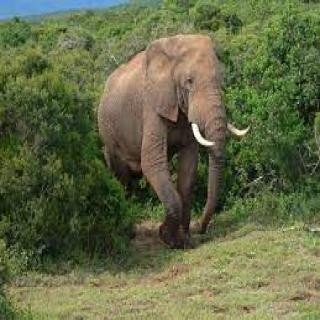Elephant: (96, 29, 252, 250)
